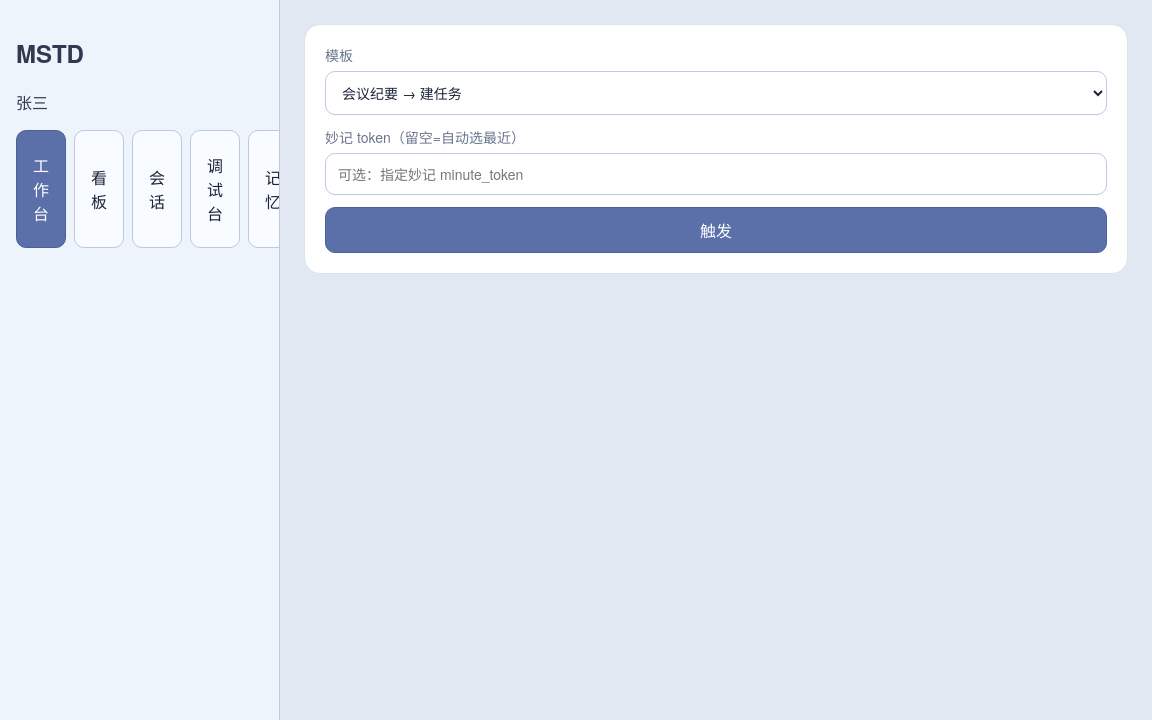
Test: App / job stream 错误处理 › stream 出错时展示错误横幅而不是静默吞掉
The width and height of the screenshot is (1152, 720).
Click the button "触发": (716, 230) [325,207,1107,253]
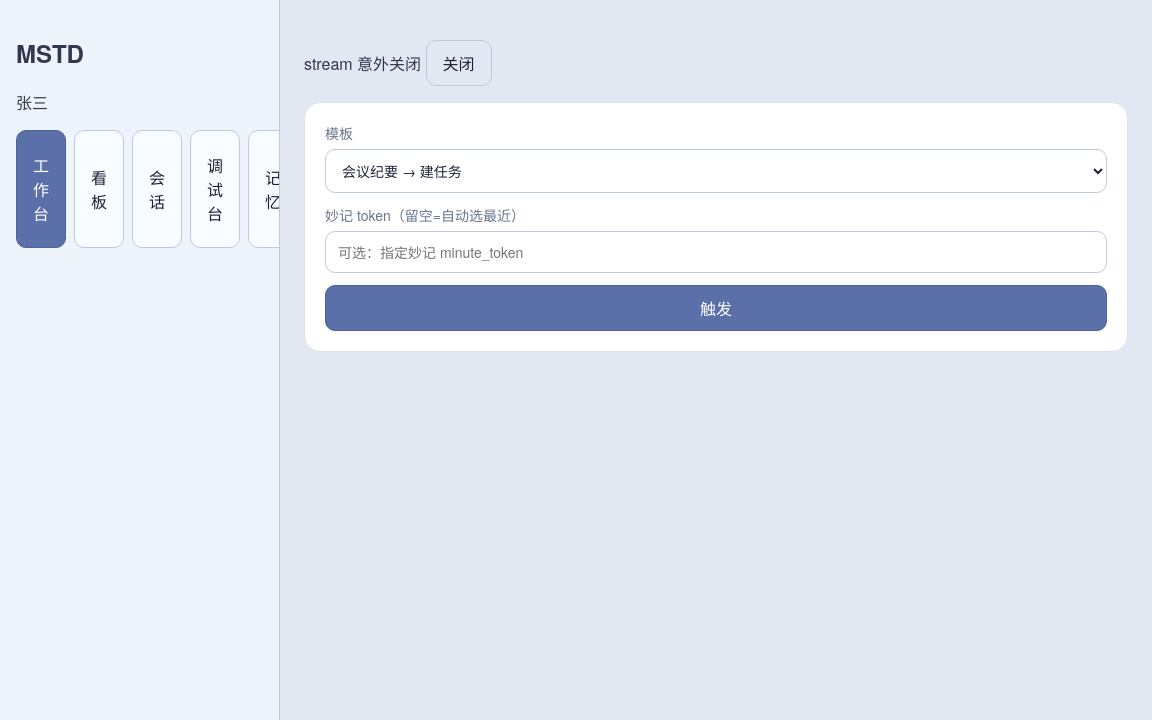
Check: the text "stream 意外关闭 关闭" is shown, box [304,40,492,86]
